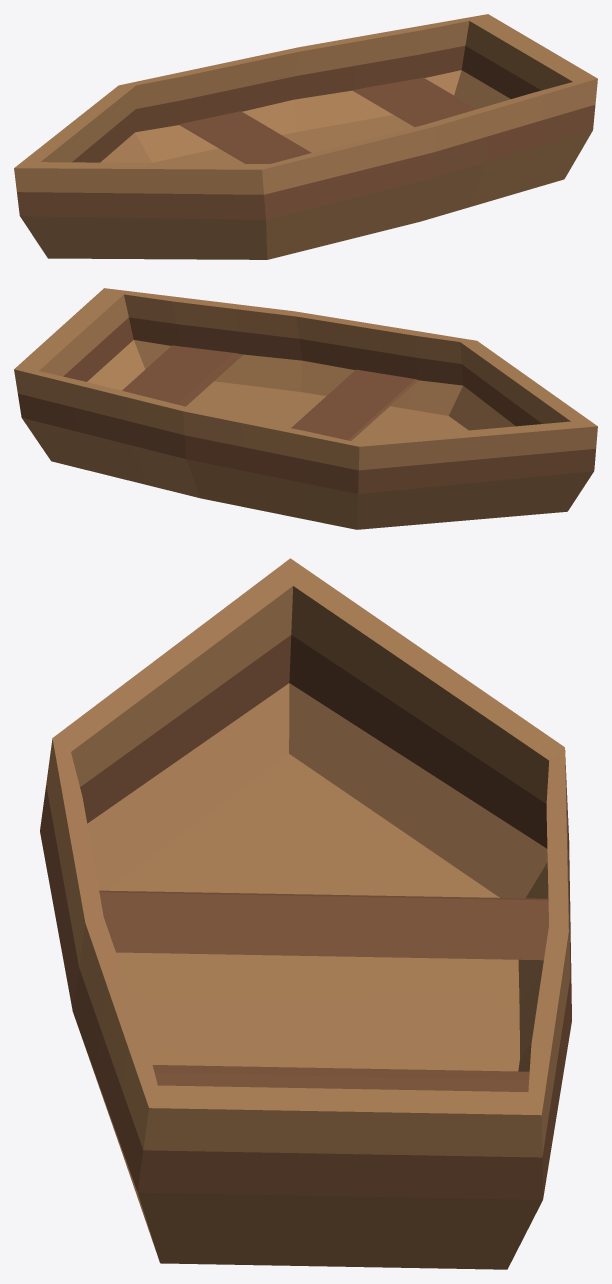
Rendered from boat.glb.
3 renders of one model, top to bottom at view 1: azimuth 30°, elevation 25°; view 2: azimuth 150°, elevation 25°; view 3: azimuth 270°, elevation 25°, orthographic. The views are drawn at different scales.
Visible parts, largest first — view 1: Cube.001; view 2: Cube.001; view 3: Cube.001.
Part boxes in pixels (<box>): Cube.001: <box>14,14,597,259</box>; Cube.001: <box>14,288,597,529</box>; Cube.001: <box>40,558,571,1269</box>.
Size of the model in its own units: 98.75 by 20.58 by 43.01.
